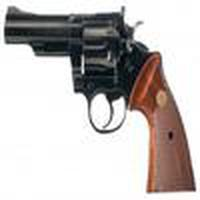gun: (3, 12, 198, 194)
